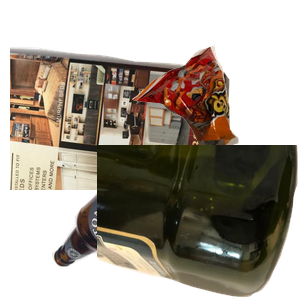glass: (49, 145, 229, 300)
paper: (10, 44, 232, 224)
plastic: (97, 145, 300, 300)
trash: (130, 43, 300, 190)
